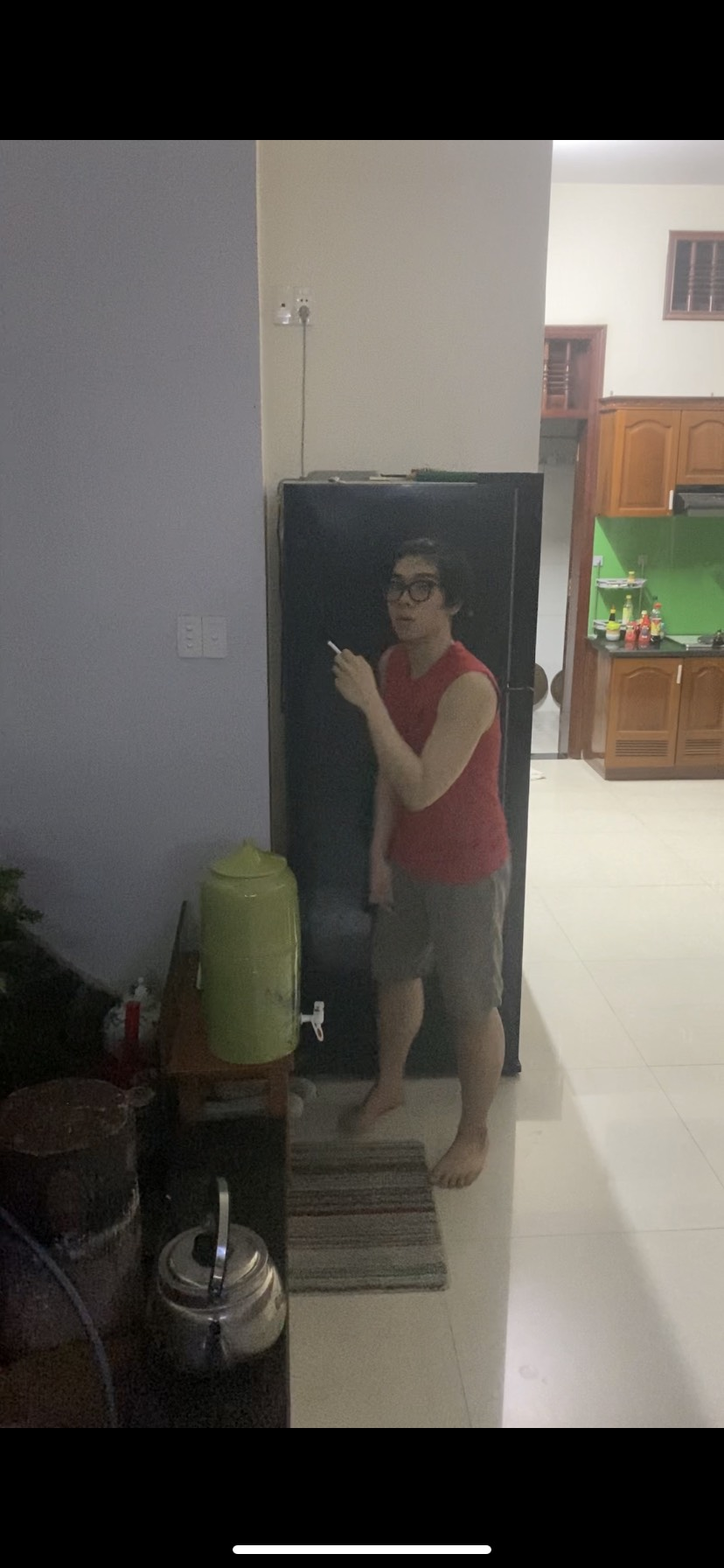cigarette: (324, 638, 343, 656)
person: (317, 514, 519, 1199)
